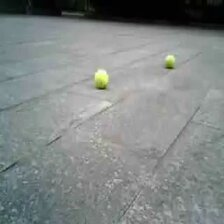tennis: (93, 69, 108, 86), (164, 54, 175, 67)
